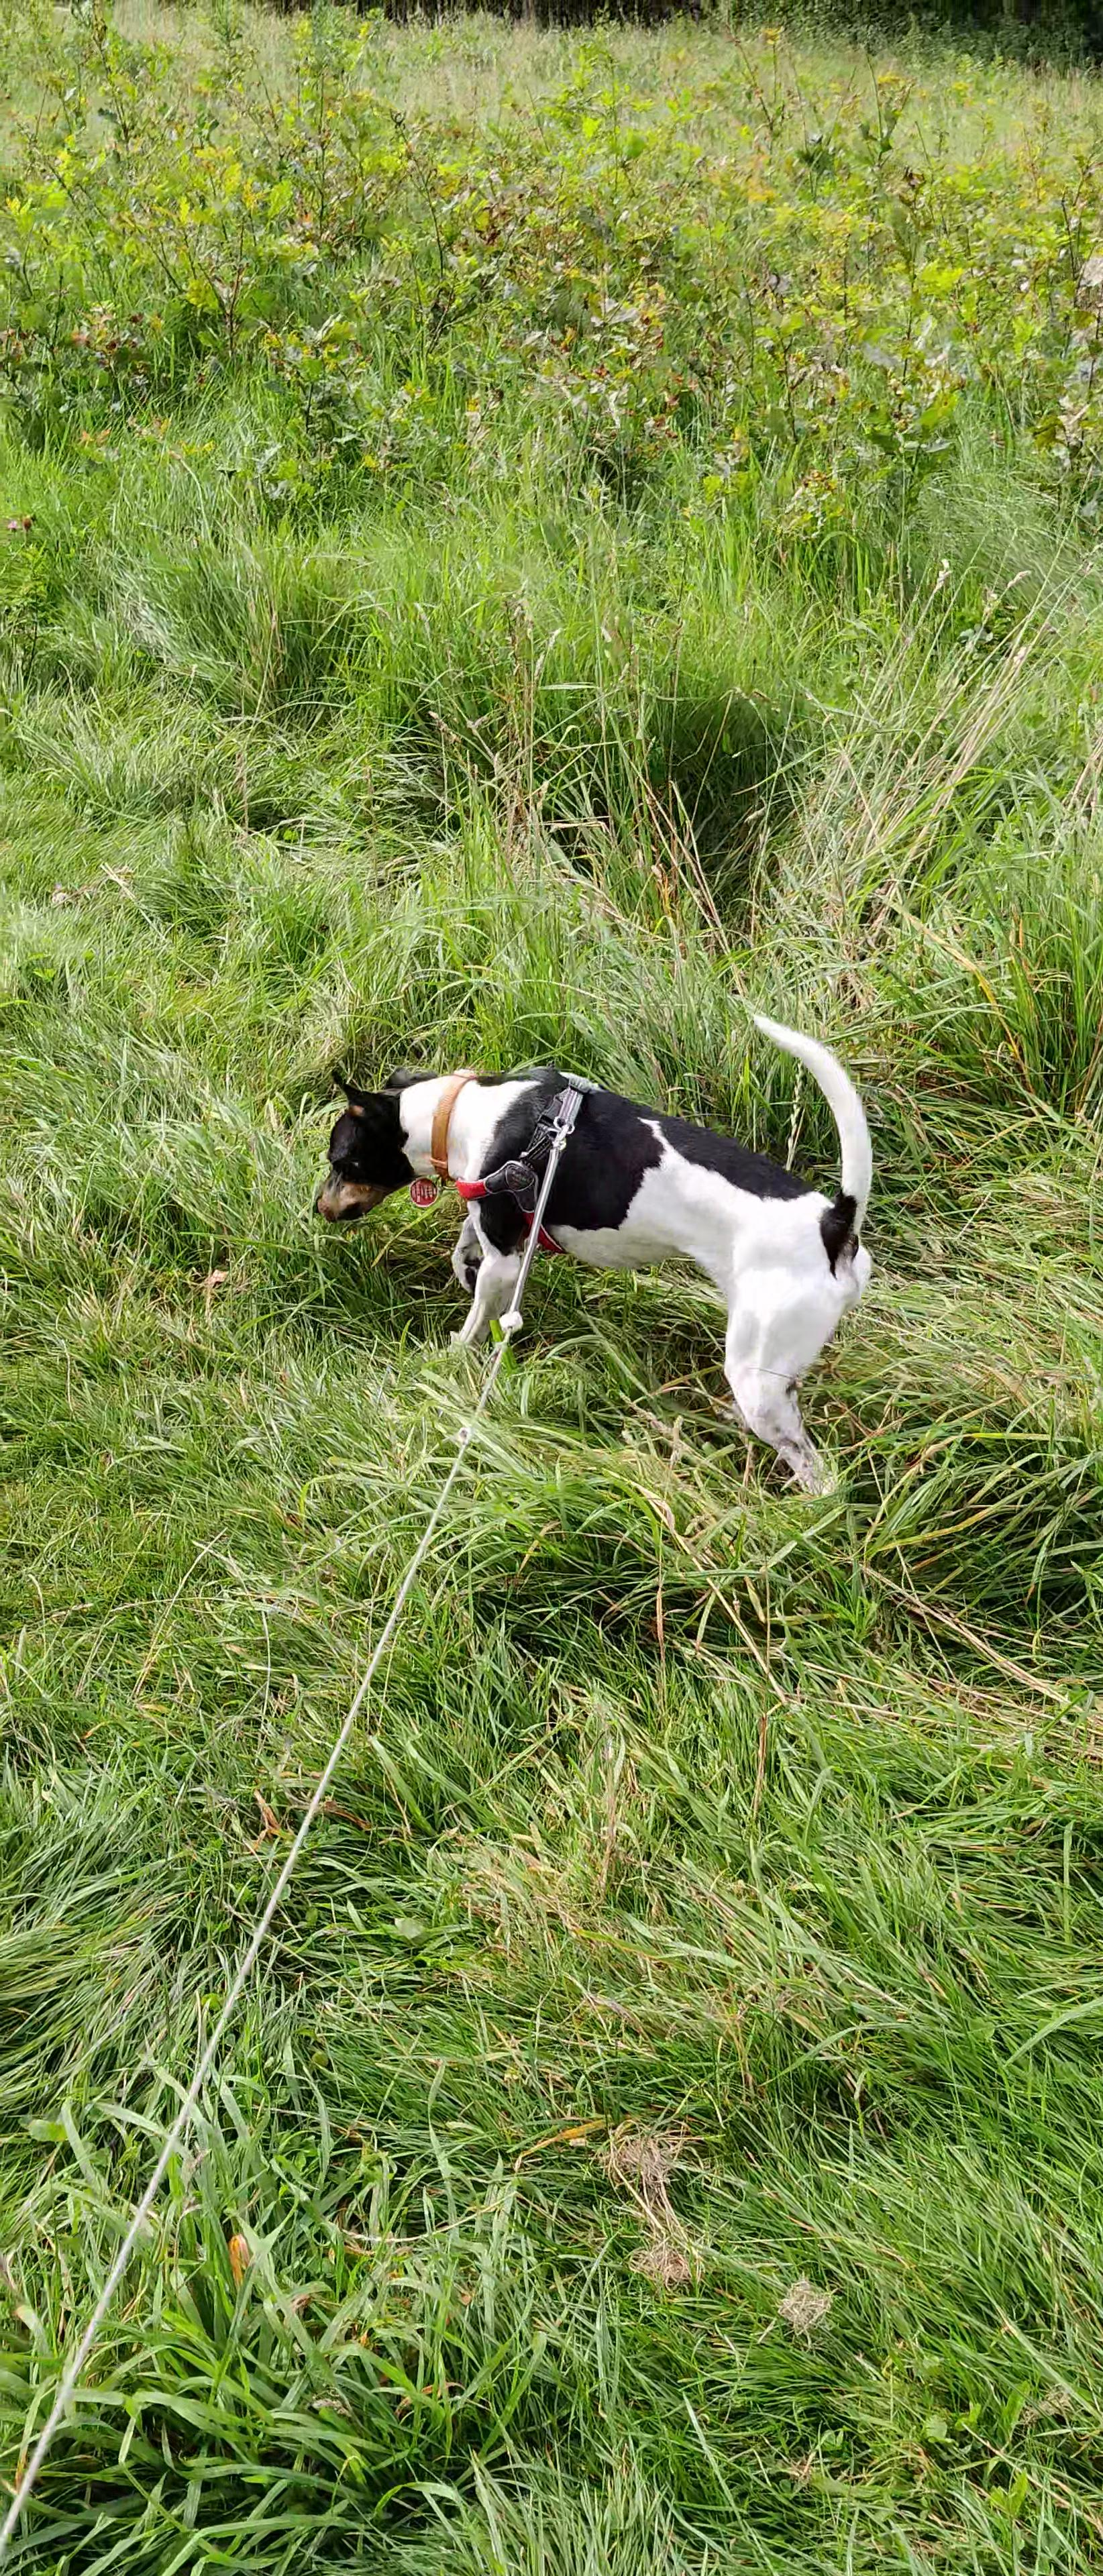Dog: (309, 1005, 884, 1495)
